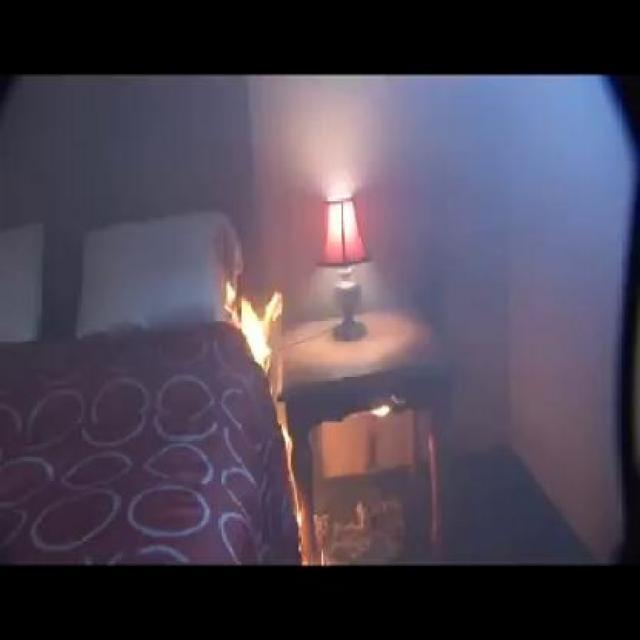fire: (224, 265, 304, 403)
